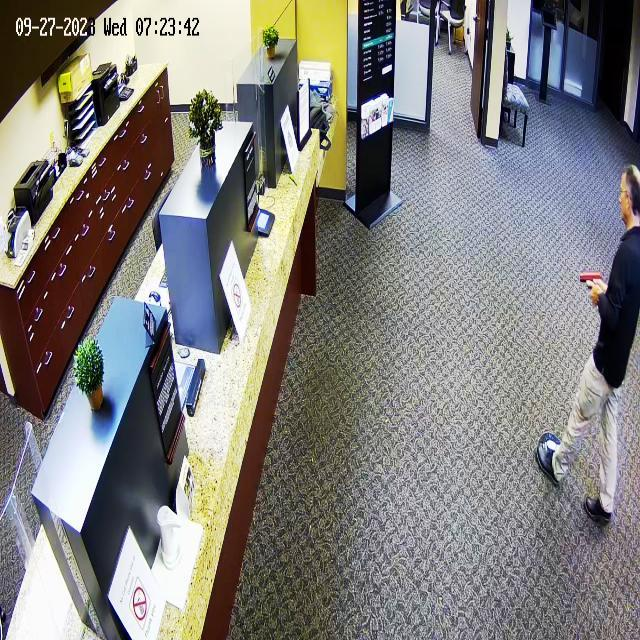Gun: (571, 260, 611, 309)
